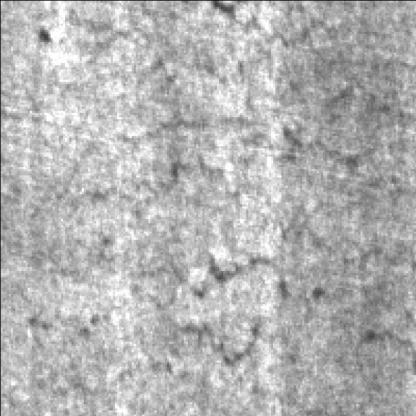crazing: (102, 52, 397, 206), (27, 250, 295, 382)
